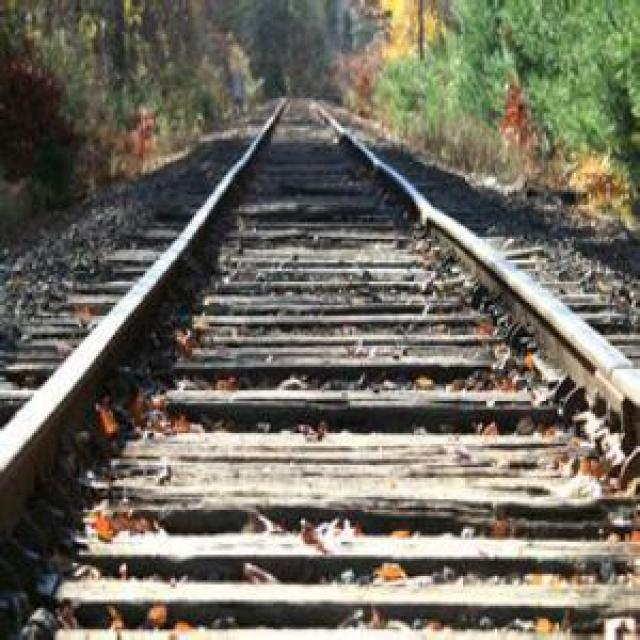rail: (0, 97, 293, 624), (304, 101, 640, 520)
